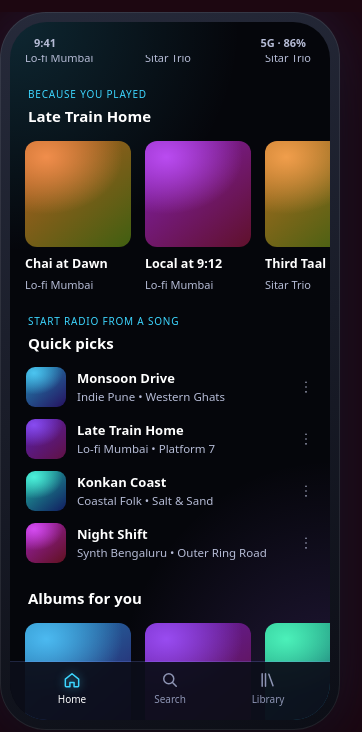
Test: Swar demo › goes back a song from the mini player
The width and height of the screenshot is (362, 732).
(page scrolled)
Click the button with aria-label "Play Monsoon Drive by Indie Pune" at coordinates (149, 387), box left=10, top=361, right=288, bottom=413
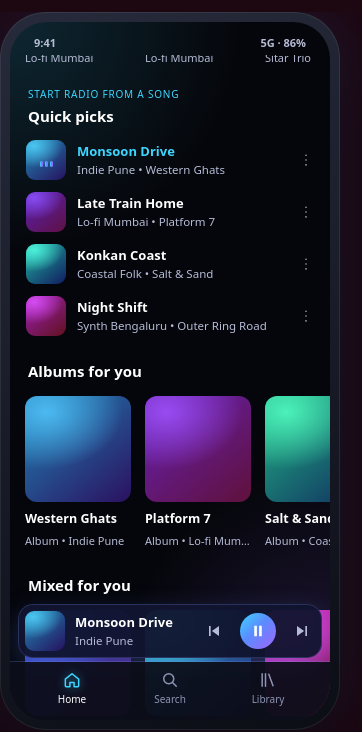
Click the button named "Next" at coordinates (302, 631), box left=286, top=613, right=318, bottom=649
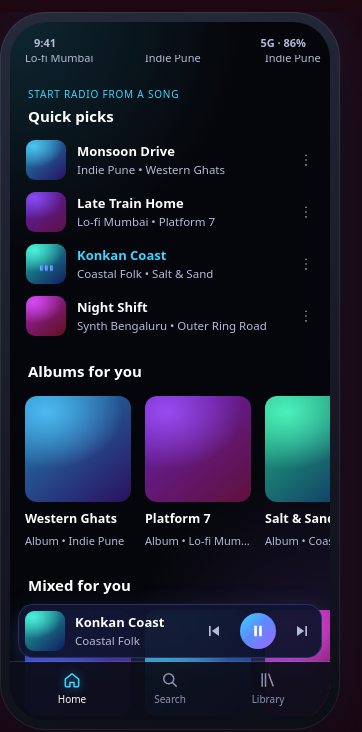
Now the button with aria-label "Open the player" does not have attribute aria-label="Open the player: Monsoon Drive", box left=18, top=604, right=322, bottom=658
Click the button named "Previous" at coordinates (214, 631), box left=198, top=613, right=230, bottom=649
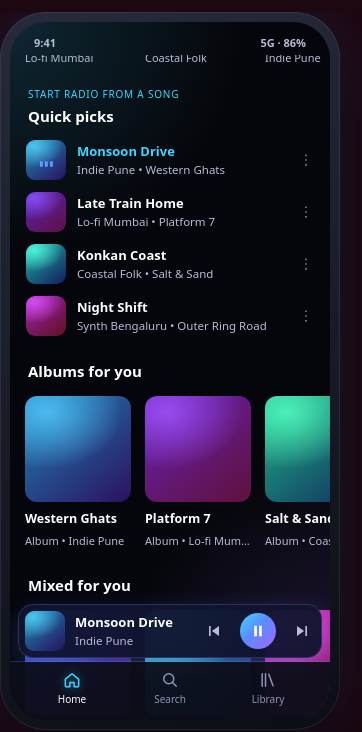
Now the button with aria-label "Open the player" has attribute aria-label="Open the player: Monsoon Drive", box left=18, top=604, right=322, bottom=658
